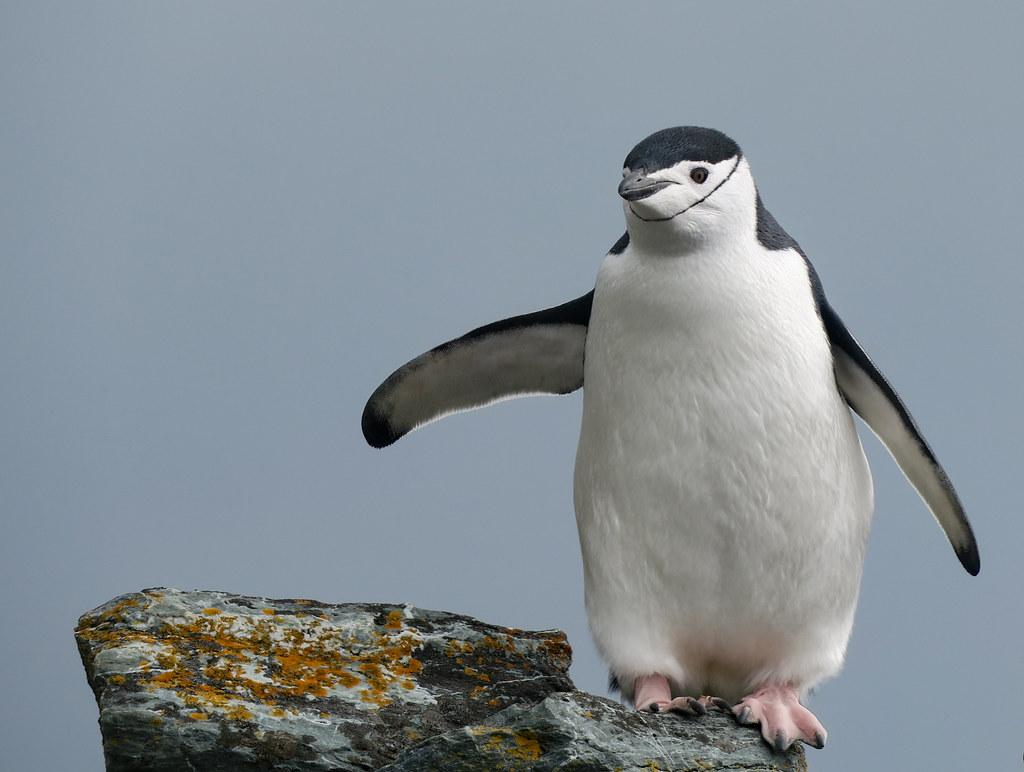chinstrap: (334, 99, 1024, 739)
